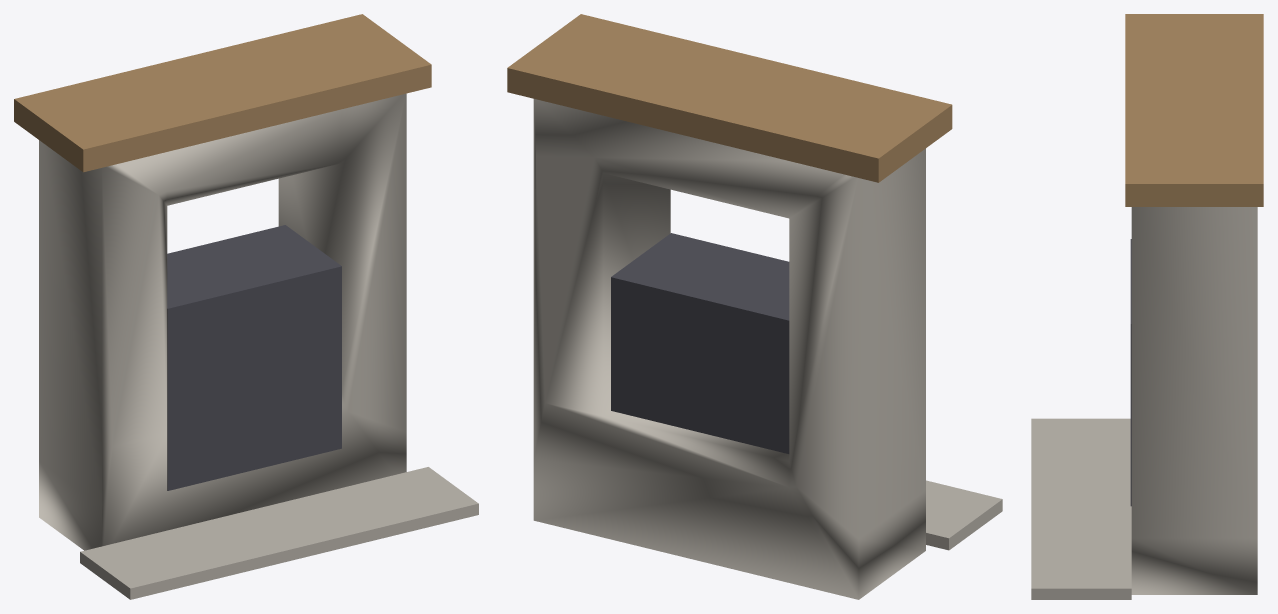
The model's file is fireplace.glb.
3 views of the same model, side by side, from view 1: azimuth 30°, elevation 25°; view 2: azimuth 150°, elevation 25°; view 3: azimuth 270°, elevation 25° (orthographic). The views are drawn at different scales.
Parts seen in each view (by area): view 1: merged_stone_grey, firebox, mantel, hearth; view 2: merged_stone_grey, mantel, firebox, hearth; view 3: merged_stone_grey, mantel, hearth, firebox.
Part boxes in pixels (x1=…): merged_stone_grey: x1=39, y1=93, x2=406, y2=550; firebox: x1=167, y1=225, x2=341, y2=490; mantel: x1=14, y1=14, x2=431, y2=172; hearth: x1=80, y1=467, x2=478, y2=599; merged_stone_grey: x1=533, y1=99, x2=925, y2=599; mantel: x1=507, y1=14, x2=952, y2=182; firebox: x1=611, y1=233, x2=789, y2=453; hearth: x1=926, y1=480, x2=1002, y2=550; merged_stone_grey: x1=1131, y1=207, x2=1257, y2=594; mantel: x1=1125, y1=14, x2=1263, y2=206; hearth: x1=1031, y1=418, x2=1131, y2=599; firebox: x1=1130, y1=239, x2=1131, y2=506.
Bounding box in the file's own units: 1.6 × 1.85 × 0.925.
